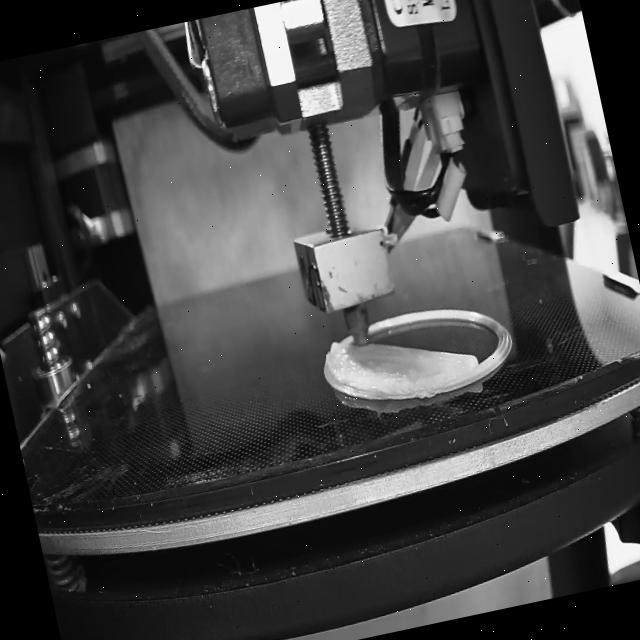over_extrusion: (318, 338, 346, 387)
